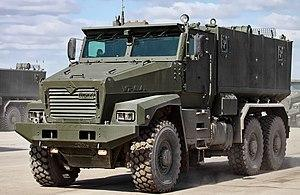truck: (22, 11, 300, 194)
